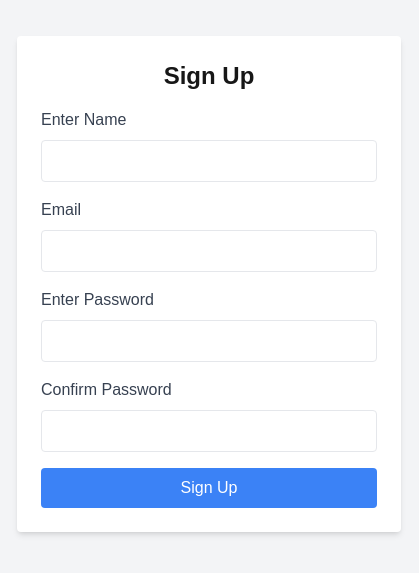
Test: SignupPage Component › shows an error message if passwords don't match
The image size is (419, 573).
Type "Test User" into the field labelled "Enter Name" at {"x": 209, "y": 161}, box [41, 140, 377, 182]
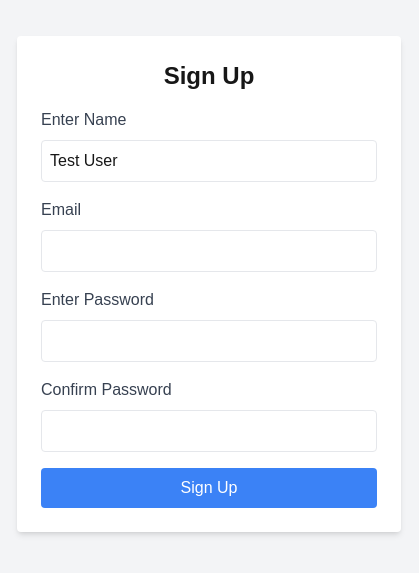
Type "test@example.com" into the field labelled "Email" at {"x": 209, "y": 251}, box [41, 230, 377, 272]
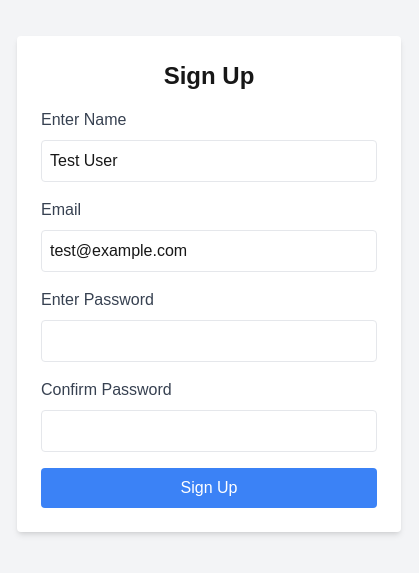
Type "password123" into the password field labelled "Enter Password" at {"x": 209, "y": 341}, box [41, 320, 377, 362]
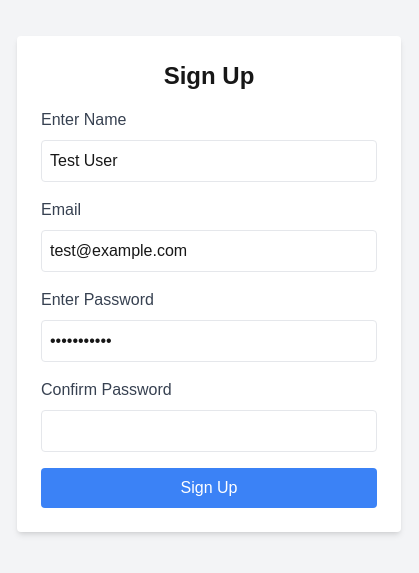
Type "password" into the password field labelled "Confirm Password" at {"x": 209, "y": 431}, box [41, 410, 377, 452]
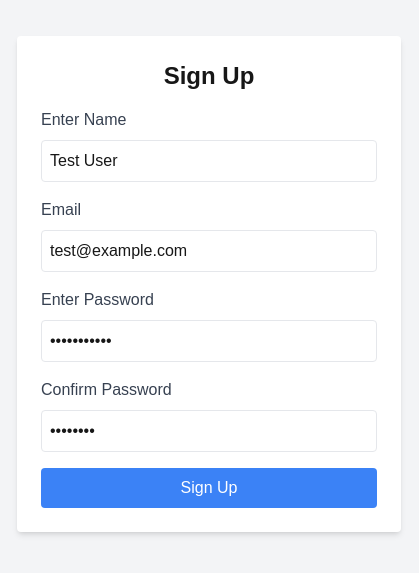
Click the button "Sign Up" at {"x": 209, "y": 488}, box [41, 468, 377, 508]
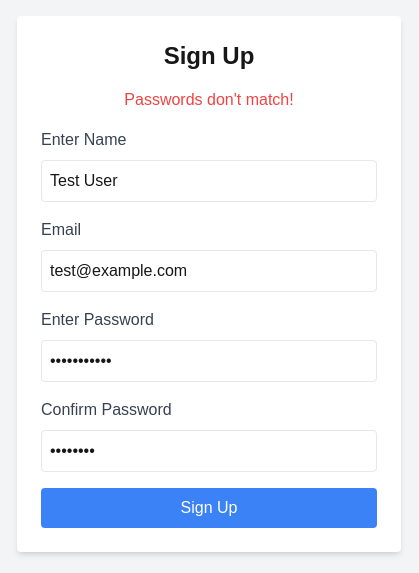
Expected: the text "Passwords don't match!" is shown, [124, 91, 294, 108]
